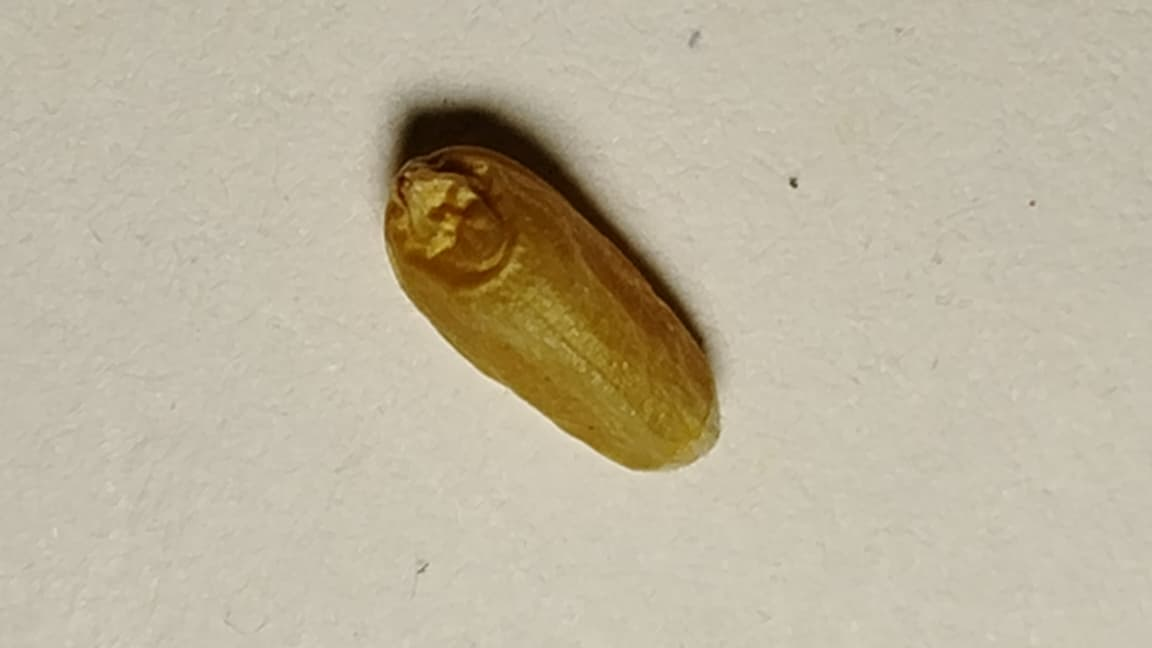healthy: (384, 145, 718, 469)
